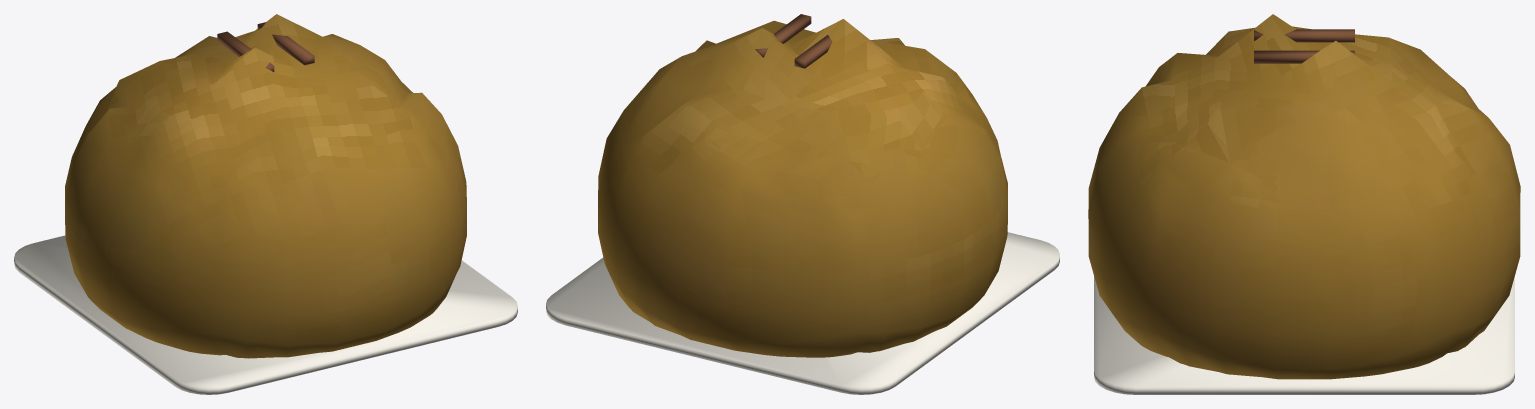
The model's file is curryman.glb.
The picture shows the model from 3 angles, left to right: view 1: azimuth 30°, elevation 25°; view 2: azimuth 150°, elevation 25°; view 3: azimuth 270°, elevation 25°; orthographic projection. The views are drawn at different scales.
Parts seen in each view (by area): view 1: curryman_felt_yellow, curryman_paper_white, curryman_felt_brown; view 2: curryman_felt_yellow, curryman_paper_white, curryman_felt_brown; view 3: curryman_felt_yellow, curryman_paper_white, curryman_felt_brown.
Boxes of the visible parts, box(x1,y1,x2,y2) form: curryman_felt_yellow: box(65, 14, 466, 358); curryman_paper_white: box(14, 235, 517, 394); curryman_felt_brown: box(217, 22, 314, 71); curryman_felt_yellow: box(598, 19, 1007, 357); curryman_paper_white: box(546, 232, 1059, 394); curryman_felt_brown: box(755, 14, 832, 68); curryman_felt_yellow: box(1088, 14, 1520, 379); curryman_paper_white: box(1094, 276, 1514, 394); curryman_felt_brown: box(1254, 29, 1354, 63).
Size of the model in its own units: 0.1537 by 0.1095 by 0.1539.
3 materials, 1 textured.
